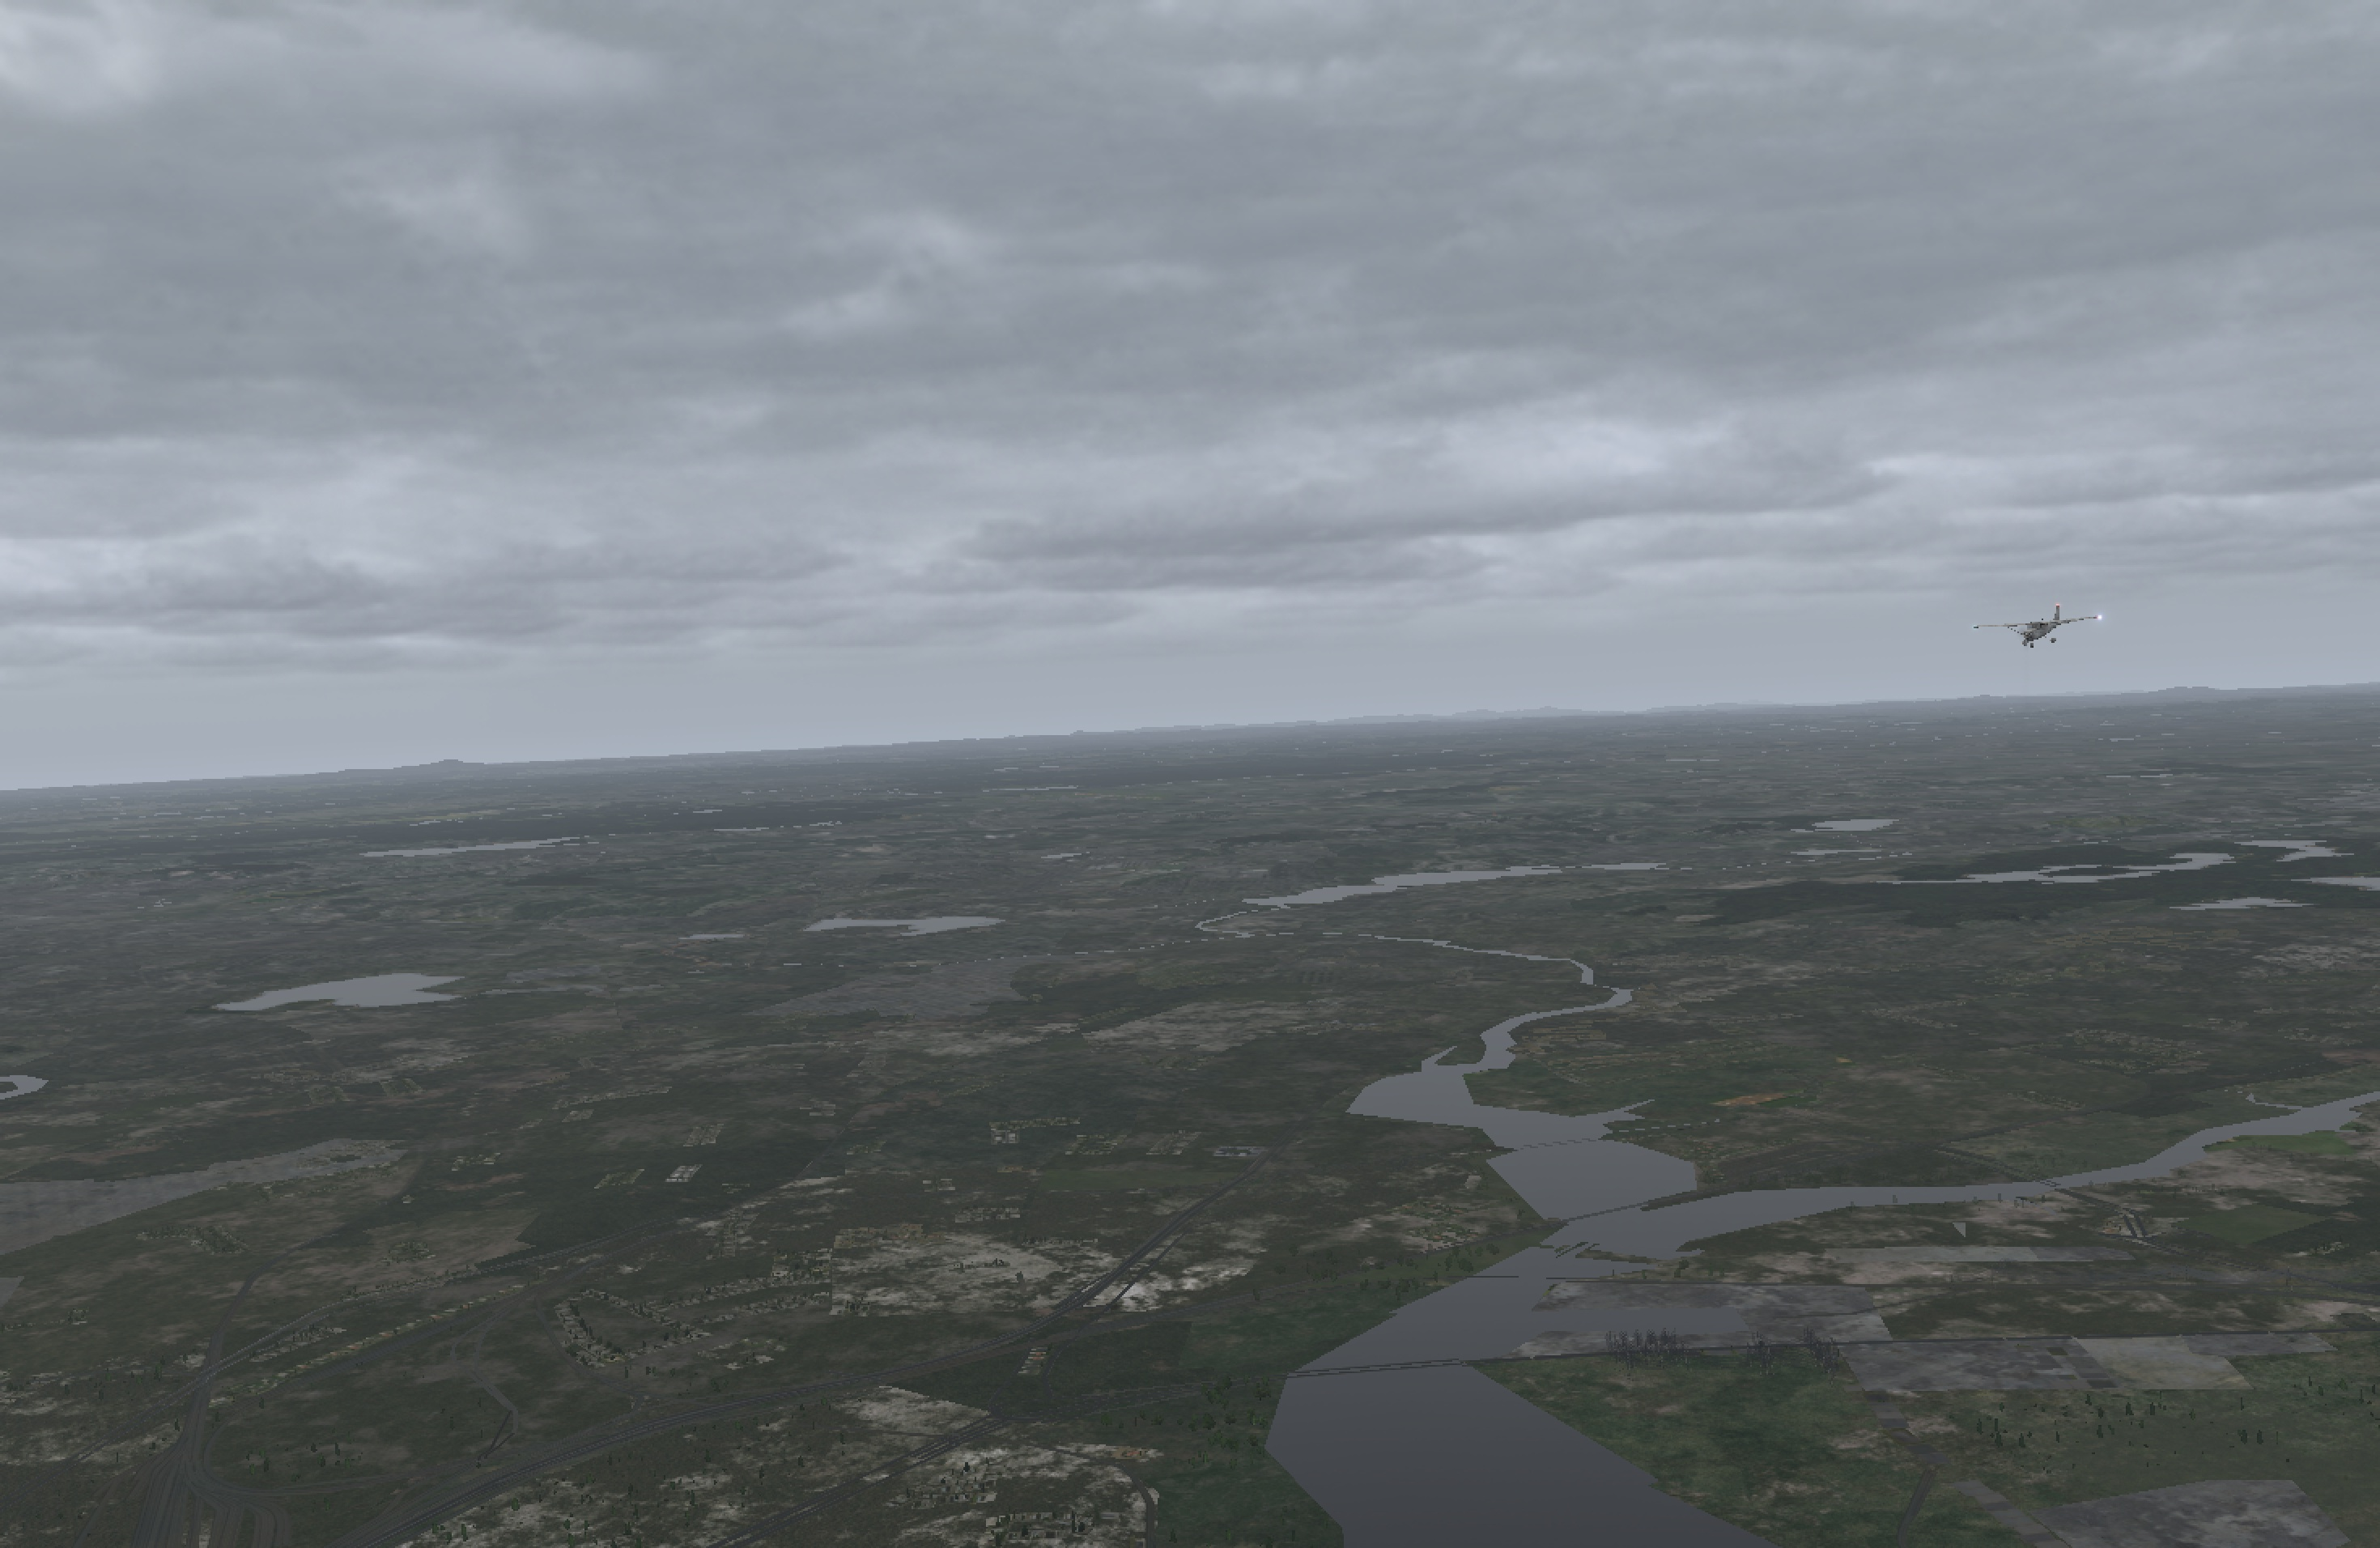aircraft: (1995, 614, 2078, 646)
